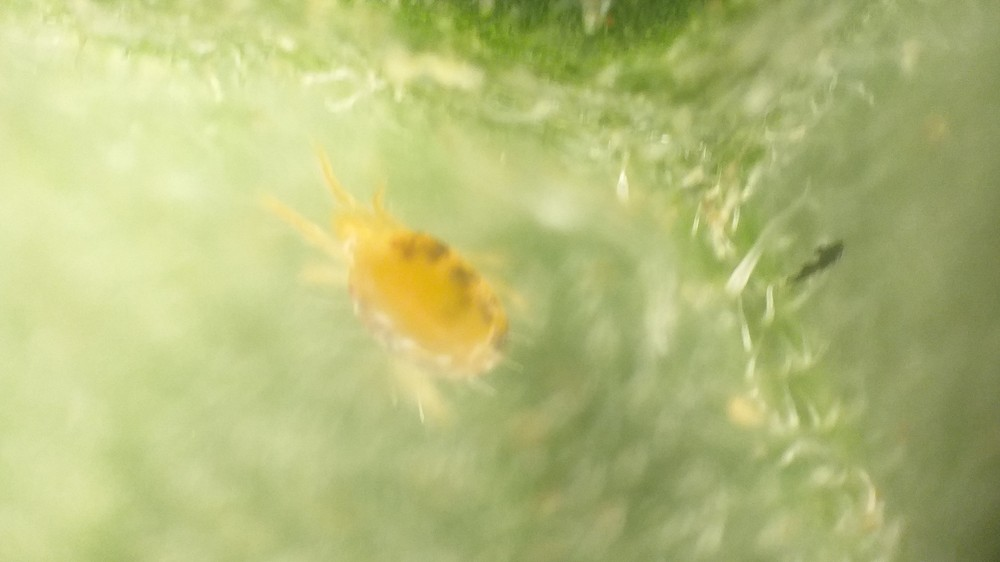Aracnido Rojo: (249, 148, 554, 439)
